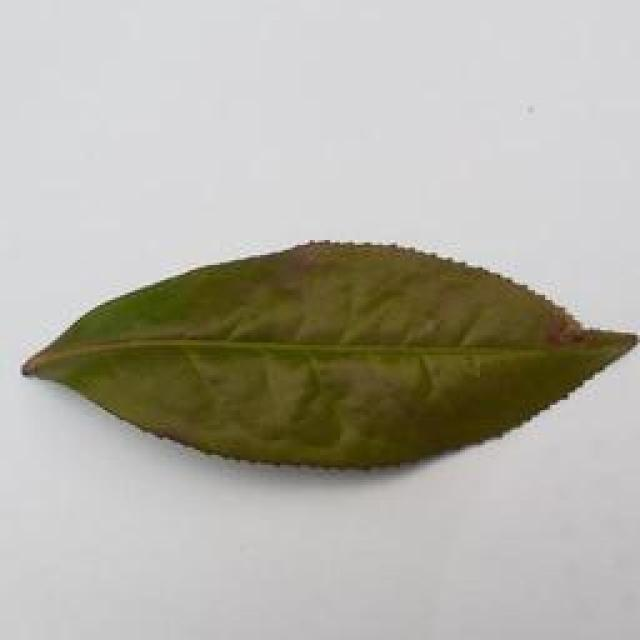Red Leaf Spot: (10, 228, 640, 488)
